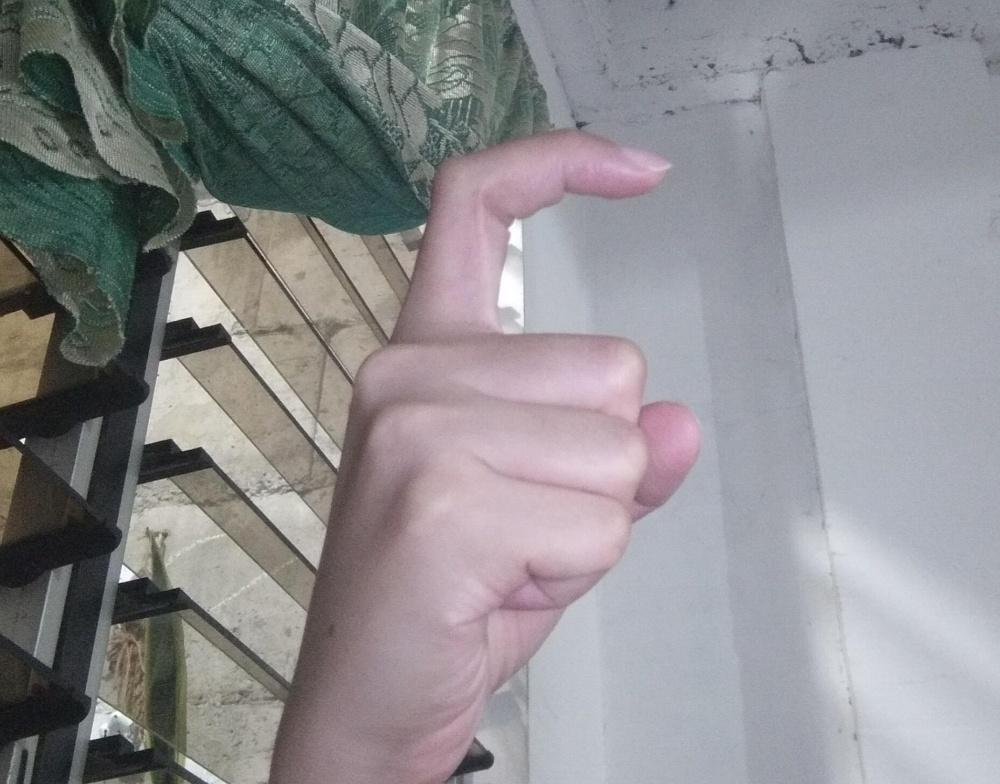x: (288, 126, 706, 773)
